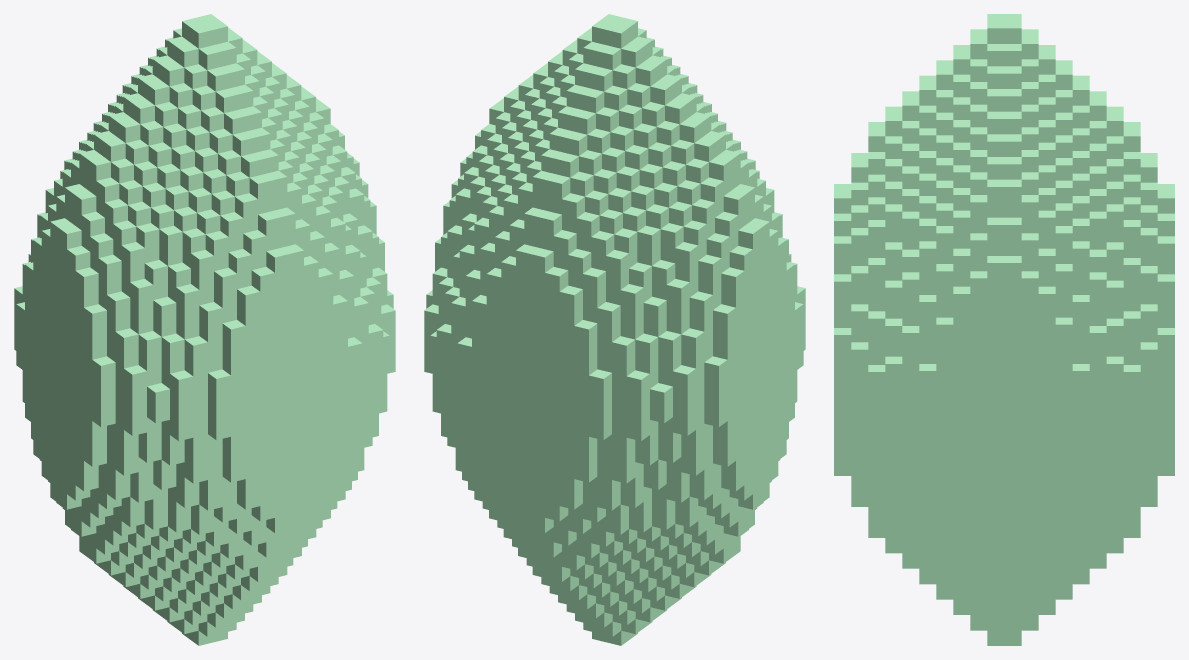
Rendered from RespawnCrystal.obj.
The picture shows the model from 3 angles, left to right: view 1: azimuth 30°, elevation 25°; view 2: azimuth 150°, elevation 25°; view 3: azimuth 270°, elevation 25°; orthographic projection.
Bounding box in the file's own units: 2 × 4 × 2.
1 material, 1 textured.
